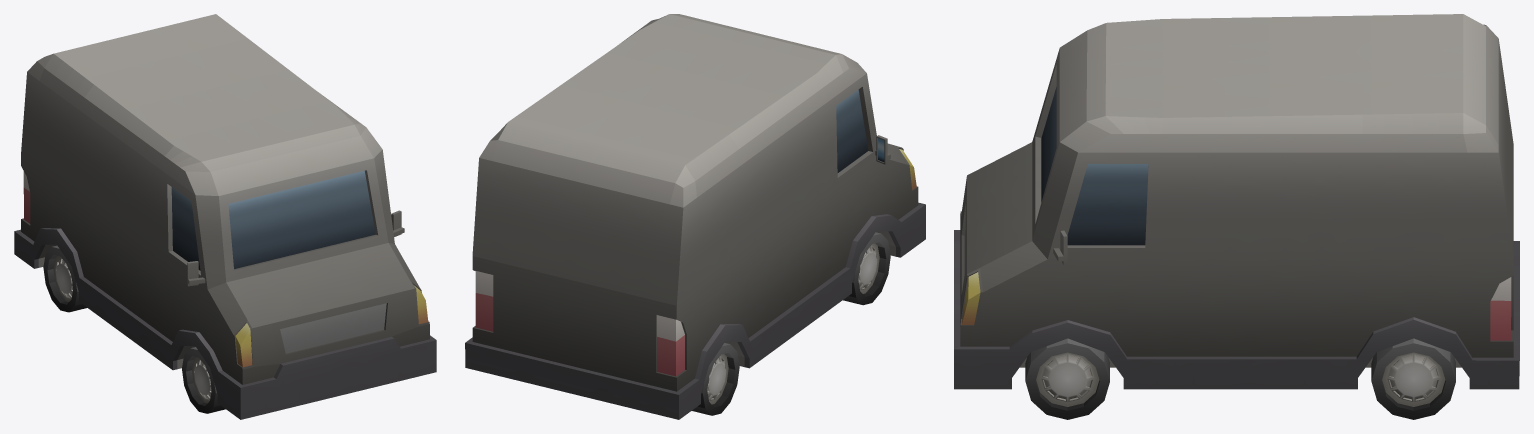
Rendered from Van_02_FBX.fbx.
The picture shows the model from 3 angles, left to right: view 1: azimuth 30°, elevation 25°; view 2: azimuth 150°, elevation 25°; view 3: azimuth 270°, elevation 25°; orthographic projection. The views are drawn at different scales.
Visible parts, largest first — view 1: pCube160; view 2: pCube160; view 3: pCube160.
Boxes of the visible parts, <box> form: pCube160: <box>14,14,436,419</box>; pCube160: <box>465,14,925,419</box>; pCube160: <box>954,14,1519,419</box>.
Size of the model in its own units: 246 by 261 by 448.
